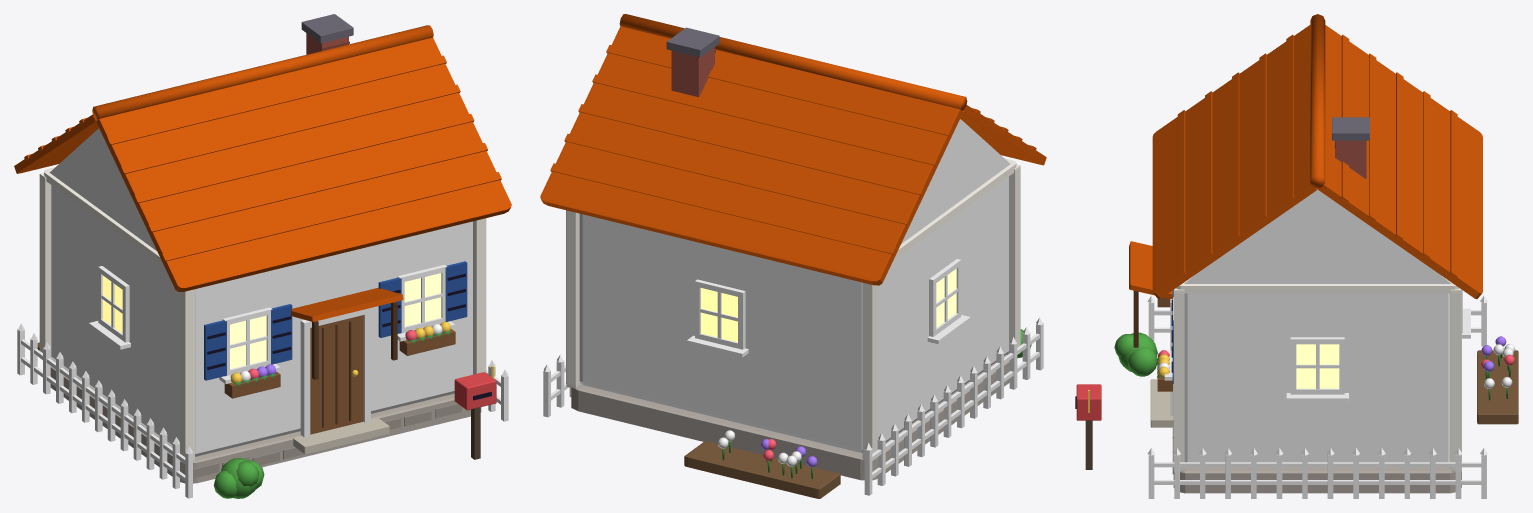
The model's file is domek5.glb.
3 renders of one model, left to right at view 1: azimuth 30°, elevation 25°; view 2: azimuth 150°, elevation 25°; view 3: azimuth 270°, elevation 25°, orthographic. The views are drawn at different scales.
Visible parts, largest first — view 1: domek5; view 2: domek5; view 3: domek5.
Boxes of the visible parts, x1,y1,x2,y2 form: domek5: [14, 14, 511, 498]; domek5: [540, 14, 1046, 498]; domek5: [1075, 14, 1518, 498].
Bounding box in the file's own units: 5.54 × 5.43 × 6.4.
Materials: 2 (2 with a texture image).
